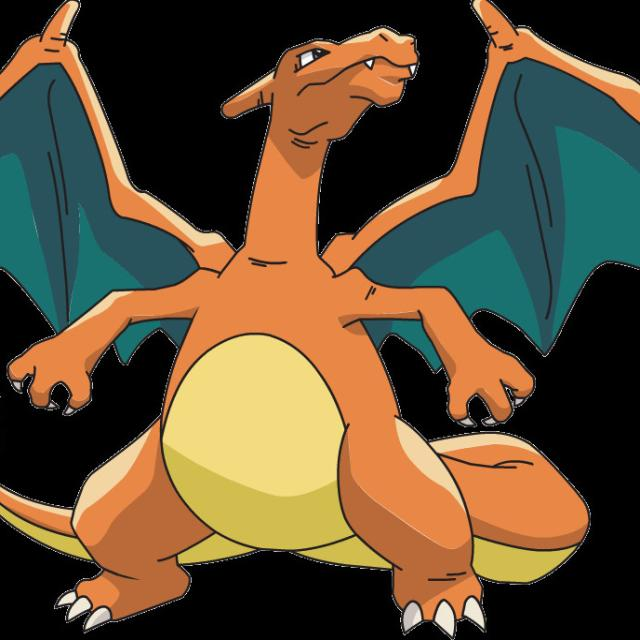Charizard: (51, 9, 536, 618)
